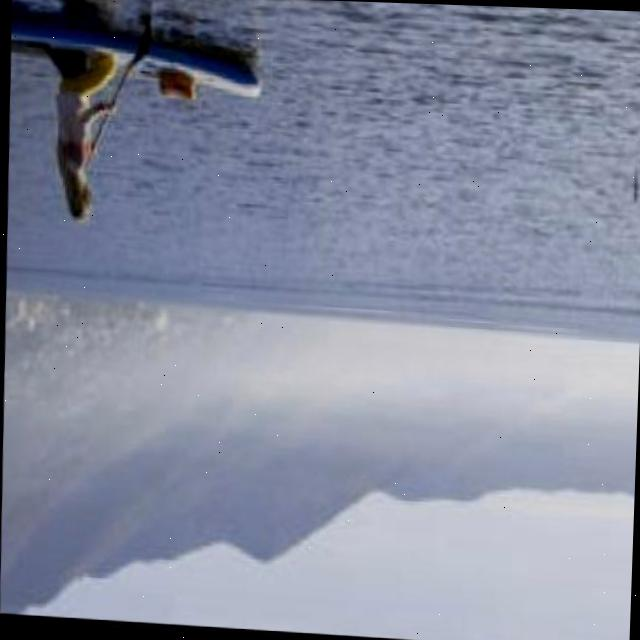kayak: (9, 6, 258, 101)
